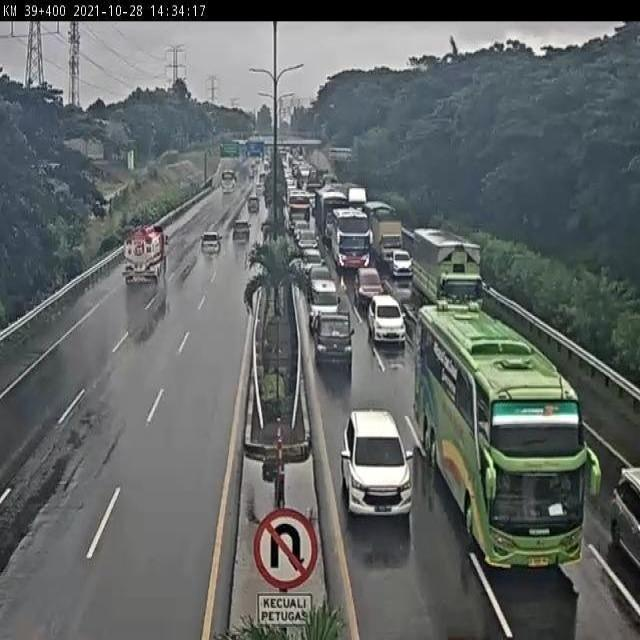Bus: (416, 303, 596, 568), (327, 206, 373, 270)
Car: (340, 409, 415, 521), (366, 293, 408, 352), (316, 312, 354, 372), (199, 230, 223, 253), (230, 221, 252, 243)
Truck: (414, 227, 485, 304), (119, 222, 170, 290)
